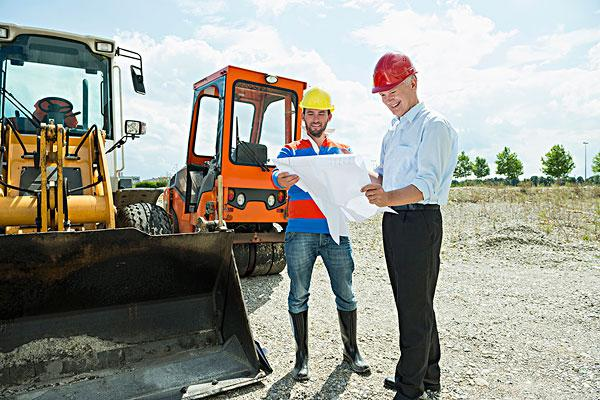helmet: (365, 32, 421, 130), (298, 76, 339, 141)
